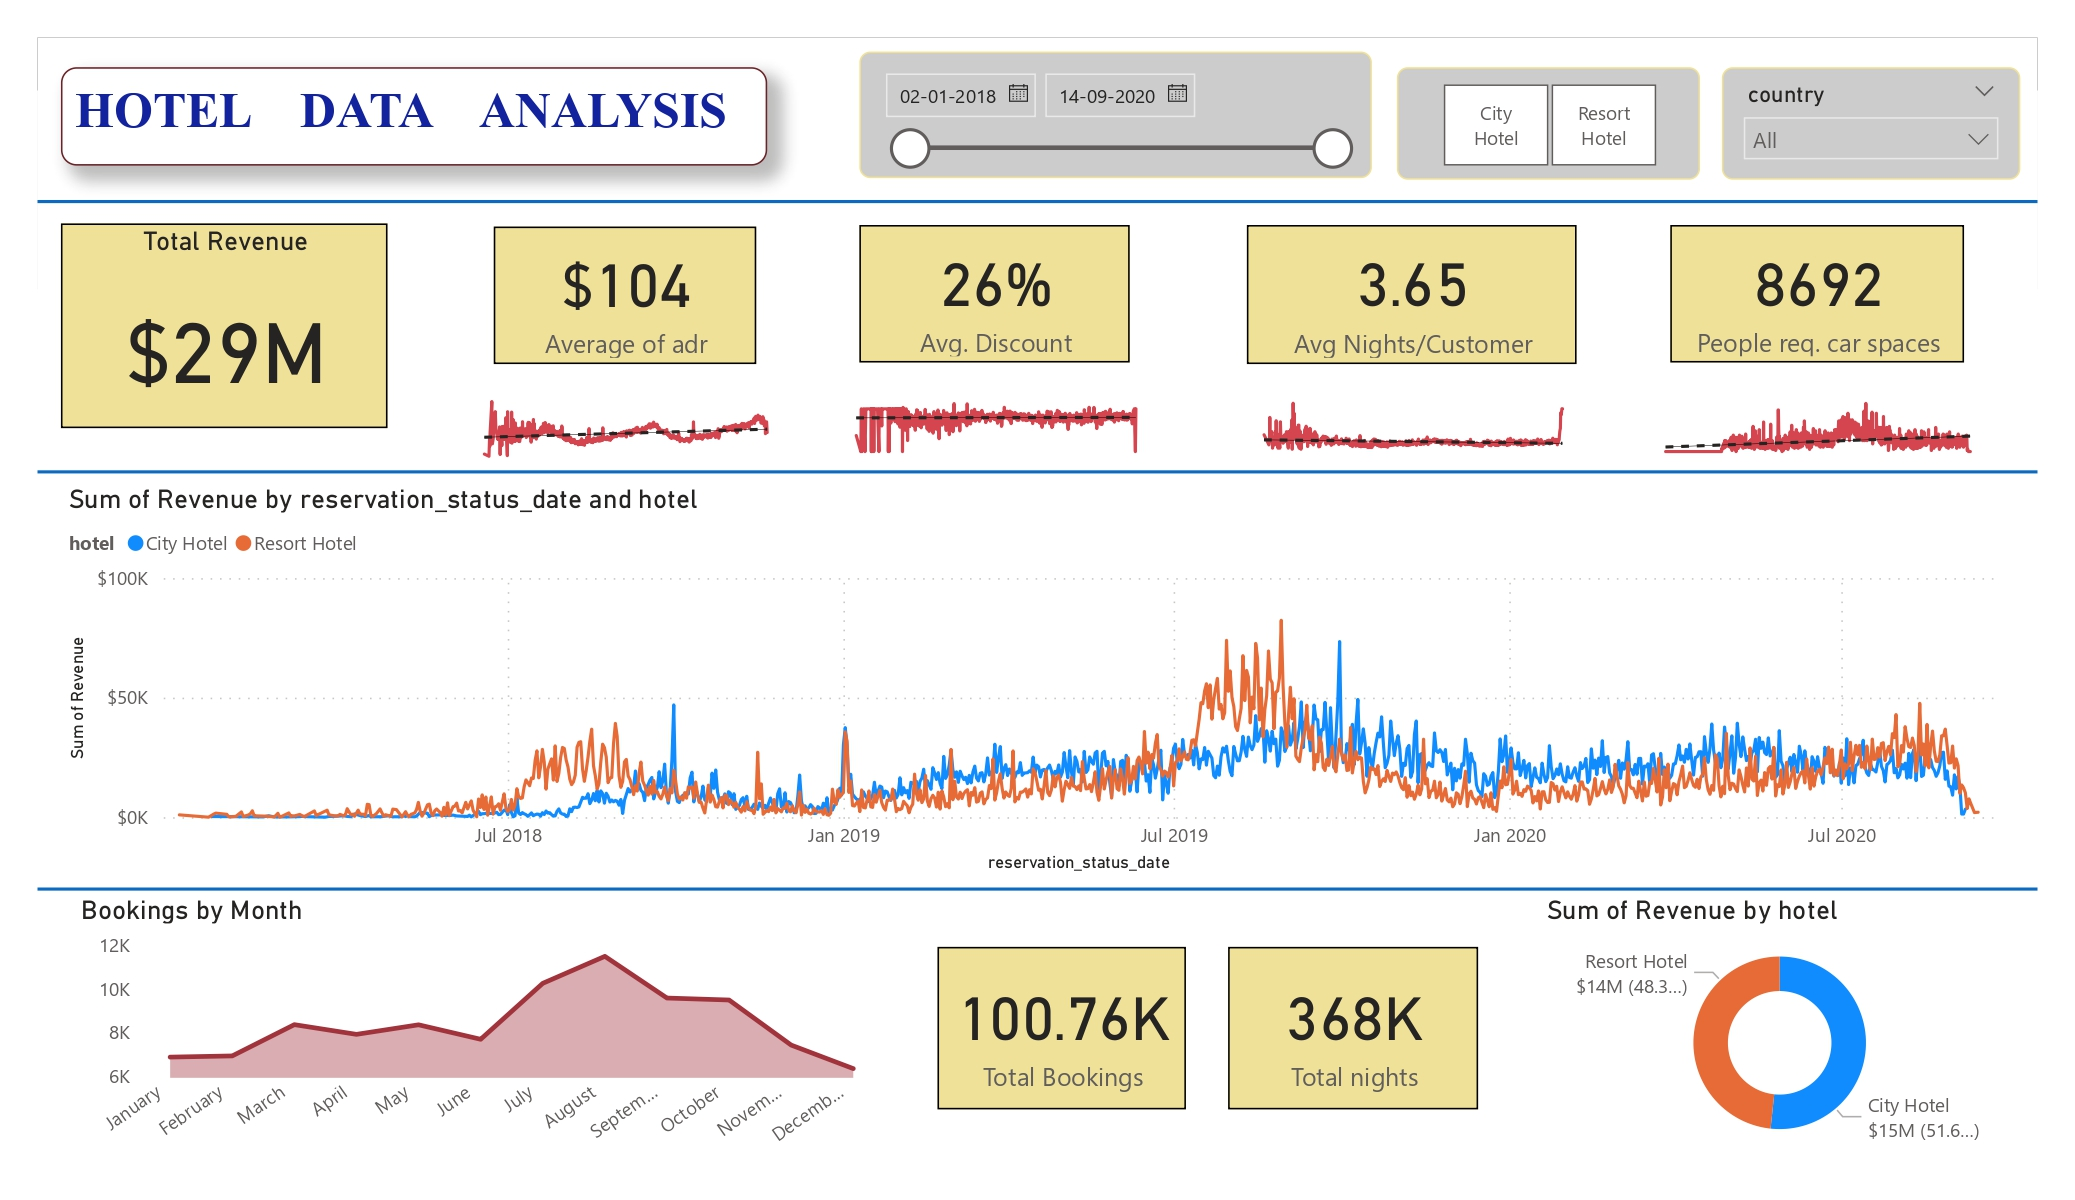

This screenshot's page, from the dashboard's own definition file:
{"tool":"powerbi","page":{"name":"Page 1","canvas":[1280,720],"ordinal":0},"visuals":[{"type":"lineChart","fields":{"Y":["Sum(Query1.Revenue)"],"Category":["Query1.reservation_status_date"],"Series":["Query1.hotel"]},"box":[14.7,284.8,1254.2,254.3],"z":0},{"type":"card","title":"Total Revenue","fields":{"Values":["Sum(Query1.Revenue)"]},"box":[14.9,119.2,208.6,130.4],"z":1000},{"type":"shape","box":[0,264.5,1280.3,27.3],"z":2000},{"type":"shape","box":[0,99,1279.9,12.2],"z":3000},{"type":"card","fields":{"Values":["Avg(Query1.adr)"]},"box":[292.2,121,167.5,88],"z":4000},{"type":"card","fields":{"Values":["Avg(Query1.Discount)"]},"box":[525.6,119.8,173.6,88],"z":5000},{"type":"card","fields":{"Values":["Avg(Query1.Nights per Customer)"]},"box":[773.8,119.8,211.5,89.2],"z":6000},{"type":"slicer","fields":{"Values":["Query1.hotel"]},"box":[870.5,18.6,193.7,72],"z":7000},{"type":"donutChart","fields":{"Category":["Query1.hotel"],"Y":["Sum(Query1.Revenue)"]},"box":[960.8,547.6,308,172.4],"z":8000},{"type":"slicer","fields":{"Values":["Query1.country"]},"box":[1077.8,18.6,191.2,72],"z":9000},{"type":"card","fields":{"Values":["Sum(Query1.required_car_parking_spaces)"]},"box":[1045.2,119.8,188.3,88],"z":10000},{"type":"lineChart","fields":{"Category":["Query1.reservation_status_date"],"Y":["Avg(Query1.adr)"]},"box":[271.4,211.5,210.3,62.3],"z":11000},{"type":"lineChart","fields":{"Category":["Query1.reservation_status_date"],"Y":["Avg(Query1.Discount)"]},"box":[508.5,210.3,209,61.1],"z":12000},{"type":"lineChart","fields":{"Category":["Query1.reservation_status_date"],"Y":["Avg(Query1.Nights per Customer)"]},"box":[770.1,211.5,221.3,61.1],"z":13000},{"type":"lineChart","fields":{"Category":["Query1.reservation_status_date"],"Y":["Sum(Query1.required_car_parking_spaces)"]},"box":[1026.8,209,224.9,62.3],"z":14000},{"type":"card","fields":{"Values":["Query1.Total nights"]},"box":[761.6,581.9,160.1,103.9],"z":15000},{"type":"slicer","fields":{"Values":["Query1.reservation_status_date"]},"box":[525.6,8.6,328.8,81.9],"z":16000},{"type":"textbox","box":[14.9,18.6,452,63.3],"z":17000},{"type":"shape","box":[0,539,1280.3,12.4],"z":18000},{"type":"card","fields":{"Values":["CountNonNull(Query1.reservation_status_date)"]},"box":[575.8,581.9,158.9,103.9],"z":19000},{"type":"areaChart","title":"Bookings by Month","fields":{"Category":["Query1.reservation_status_date.Variation.Date Hierarchy.Month"],"Y":["CountNonNull(Query1.reservation_status_date)"]},"box":[23.2,547.6,519.5,172.4],"z":20000}]}

Visuals, with their boxes in screenshot pixels (x1, y1, x2, y2):
lineChart - Sum(Query1.Revenue) x Query1.reservation_status_date: {"left": 60, "top": 482, "right": 2020, "bottom": 880}
"Total Revenue" card: {"left": 61, "top": 224, "right": 387, "bottom": 428}
shape: {"left": 38, "top": 451, "right": 2038, "bottom": 493}
shape: {"left": 38, "top": 192, "right": 2037, "bottom": 211}
card - Avg(Query1.adr): {"left": 494, "top": 227, "right": 756, "bottom": 364}
card - Avg(Query1.Discount): {"left": 859, "top": 225, "right": 1130, "bottom": 362}
card - Avg(Query1.Nights per Customer): {"left": 1247, "top": 225, "right": 1577, "bottom": 364}
slicer - Query1.hotel: {"left": 1398, "top": 67, "right": 1700, "bottom": 179}
donutChart - Query1.hotel x Sum(Query1.Revenue): {"left": 1539, "top": 893, "right": 2020, "bottom": 1162}
slicer - Query1.country: {"left": 1722, "top": 67, "right": 2020, "bottom": 179}
card - Sum(Query1.required_car_parking_spaces): {"left": 1671, "top": 225, "right": 1965, "bottom": 362}
lineChart - Query1.reservation_status_date x Avg(Query1.adr): {"left": 462, "top": 368, "right": 790, "bottom": 465}
lineChart - Query1.reservation_status_date x Avg(Query1.Discount): {"left": 832, "top": 366, "right": 1159, "bottom": 462}
lineChart - Query1.reservation_status_date x Avg(Query1.Nights per Customer): {"left": 1241, "top": 368, "right": 1587, "bottom": 463}
lineChart - Query1.reservation_status_date x Sum(Query1.required_car_parking_spaces): {"left": 1642, "top": 364, "right": 1993, "bottom": 461}
card - Query1.Total nights: {"left": 1228, "top": 947, "right": 1478, "bottom": 1109}
slicer - Query1.reservation_status_date: {"left": 859, "top": 51, "right": 1373, "bottom": 179}
textbox: {"left": 61, "top": 67, "right": 767, "bottom": 165}
shape: {"left": 38, "top": 880, "right": 2038, "bottom": 899}
card - CountNonNull(Query1.reservation_status_date): {"left": 937, "top": 947, "right": 1185, "bottom": 1109}
"Bookings by Month" areaChart: {"left": 74, "top": 893, "right": 885, "bottom": 1162}
